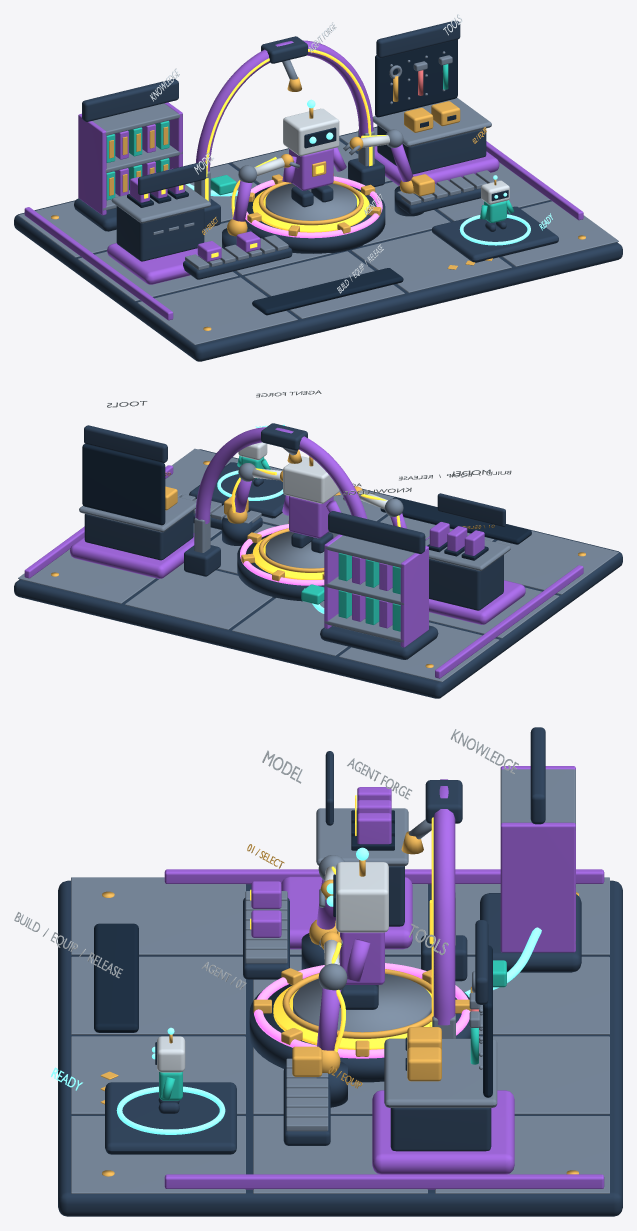
Rendered from 05-foundry-forge.glb.
The picture shows the model from 3 angles, top to bottom: view 1: azimuth 30°, elevation 25°; view 2: azimuth 150°, elevation 25°; view 3: azimuth 270°, elevation 25°; orthographic projection. The views are drawn at different scales.
Visible parts, largest first — view 1: forge workshop foundation, forge inset floor panel, forge inset floor panel.006, tool rack pegboard, forge inset floor panel.003, forge departure pad, model cartridge cabinet, forge overhead articulated gantry arc, forge inset floor panel.009, forge front identification plaque, tool workstation cabinet, knowledge shelf side upright (+36 smaller); view 2: forge workshop foundation, tool rack pegboard, forge inset floor panel.008, forge inset floor panel, forge inset floor panel.005, forge inset floor panel.011, forge overhead articulated gantry arc, tool workstation cabinet, forge inset floor panel.002, model cartridge cabinet, knowledge shelf side upright, tool supply station base (+32 smaller); view 3: forge workshop foundation, forge inset floor panel, forge inset floor panel.003, knowledge shelf side upright.001, forge inset floor panel.008, forge inset floor panel.006, forge inset floor panel.005, forge departure pad, forge inset floor panel.009, forge safety side curb.001, forge inset floor panel.010, forge inset floor panel.011 (+41 smaller).
Part boxes in pixels (left/top/right/bottom): forge workshop foundation: left=14, top=126, right=622, bottom=361; forge inset floor panel: left=137, top=277, right=297, bottom=345; forge inset floor panel.006: left=351, top=230, right=511, bottom=292; tool rack pegboard: left=375, top=39, right=457, bottom=117; forge inset floor panel.003: left=244, top=251, right=404, bottom=318; forge departure pad: left=431, top=206, right=558, bottom=262; model cartridge cabinet: left=116, top=206, right=204, bottom=261; forge overhead articulated gantry arc: left=196, top=40, right=373, bottom=171; forge inset floor panel.009: left=502, top=201, right=618, bottom=266; forge front identification plaque: left=252, top=268, right=403, bottom=315; tool workstation cabinet: left=377, top=125, right=486, bottom=174; knowledge shelf side upright: left=78, top=113, right=106, bottom=215; forge workshop foundation: left=14, top=449, right=622, bottom=698; tool rack pegboard: left=82, top=444, right=165, bottom=525; forge inset floor panel.008: left=125, top=563, right=272, bottom=629; forge inset floor panel: left=495, top=530, right=618, bottom=594; forge inset floor panel.005: left=232, top=598, right=347, bottom=655; forge inset floor panel.011: left=18, top=549, right=155, bottom=603; forge overhead articulated gantry arc: left=195, top=427, right=367, bottom=523; tool workstation cabinet: left=84, top=510, right=193, bottom=560; forge inset floor panel.002: left=339, top=622, right=499, bottom=682; model cartridge cabinet: left=429, top=555, right=503, bottom=610; knowledge shelf side upright: left=400, top=546, right=428, bottom=647; tool supply station base: left=70, top=533, right=194, bottom=578; forge workshop foundation: left=58, top=880, right=622, bottom=1216; forge inset floor panel: left=71, top=877, right=245, bottom=955; forge inset floor panel.003: left=71, top=956, right=245, bottom=1034; knowledge shelf side upright.001: left=500, top=822, right=575, bottom=952; forge inset floor panel.008: left=479, top=1036, right=609, bottom=1114; forge inset floor panel.006: left=71, top=1036, right=245, bottom=1114; forge inset floor panel.005: left=455, top=956, right=609, bottom=1034; forge departure pad: left=105, top=1082, right=236, bottom=1154; forge inset floor panel.009: left=71, top=1116, right=245, bottom=1193; forge safety side curb.001: left=164, top=1174, right=604, bottom=1189; forge inset floor panel.010: left=253, top=1116, right=427, bottom=1193; forge inset floor panel.011: left=435, top=1116, right=609, bottom=1193.
Bounding box in the file's own units: 12 × 5.26 × 9.7.
